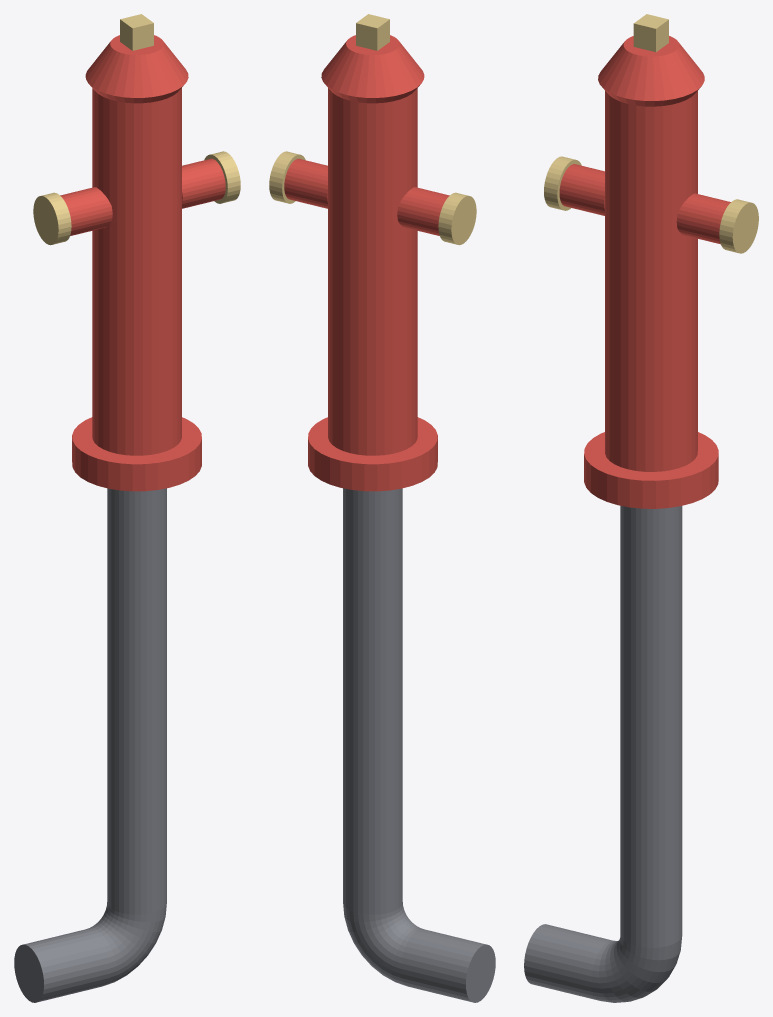
The picture shows the model from 3 angles, left to right: view 1: azimuth 30°, elevation 25°; view 2: azimuth 150°, elevation 25°; view 3: azimuth 330°, elevation 25°; orthographic projection. The views are drawn at different scales.
Visible parts, largest first — view 1: agua_hidrante__columna__columna, agua_hidrante__columna__zapata_y_tubo, agua_hidrante__columna__tapas_y_cuadradillo; view 2: agua_hidrante__columna__columna, agua_hidrante__columna__zapata_y_tubo, agua_hidrante__columna__tapas_y_cuadradillo; view 3: agua_hidrante__columna__columna, agua_hidrante__columna__zapata_y_tubo, agua_hidrante__columna__tapas_y_cuadradillo.
Boxes of the visible parts, left/top/right/bottom form: agua_hidrante__columna__columna: left=60, top=35, right=225, bottom=491; agua_hidrante__columna__zapata_y_tubo: left=14, top=488, right=166, bottom=1002; agua_hidrante__columna__tapas_y_cuadradillo: left=33, top=14, right=240, bottom=245; agua_hidrante__columna__columna: left=284, top=35, right=449, bottom=491; agua_hidrante__columna__zapata_y_tubo: left=343, top=488, right=495, bottom=1002; agua_hidrante__columna__tapas_y_cuadradillo: left=269, top=14, right=476, bottom=245; agua_hidrante__columna__columna: left=559, top=36, right=730, bottom=508; agua_hidrante__columna__zapata_y_tubo: left=524, top=505, right=682, bottom=1002; agua_hidrante__columna__tapas_y_cuadradillo: left=544, top=14, right=758, bottom=253.
Bounding box in the file's own units: 0.461 × 2.11 × 0.261.
